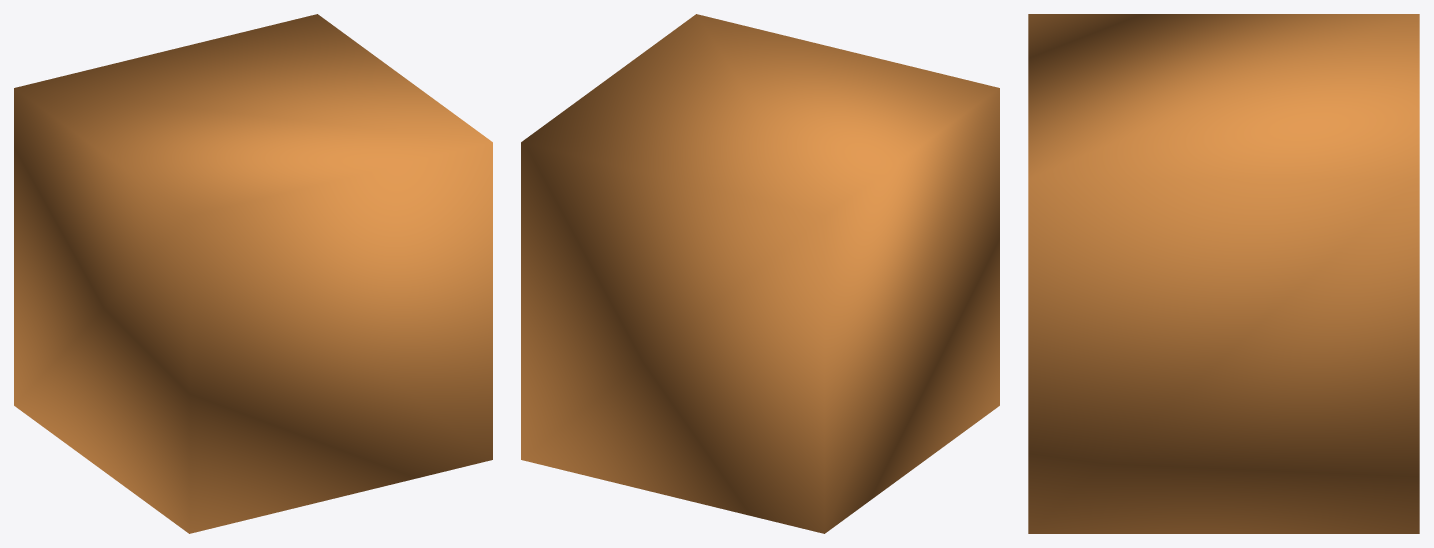
Rendered from expected.gltf.
The picture shows the model from 3 angles, left to right: view 1: azimuth 30°, elevation 25°; view 2: azimuth 150°, elevation 25°; view 3: azimuth 270°, elevation 25°; orthographic projection. The views are drawn at different scales.
Bounding box in the file's own units: 30 × 30 × 30.
